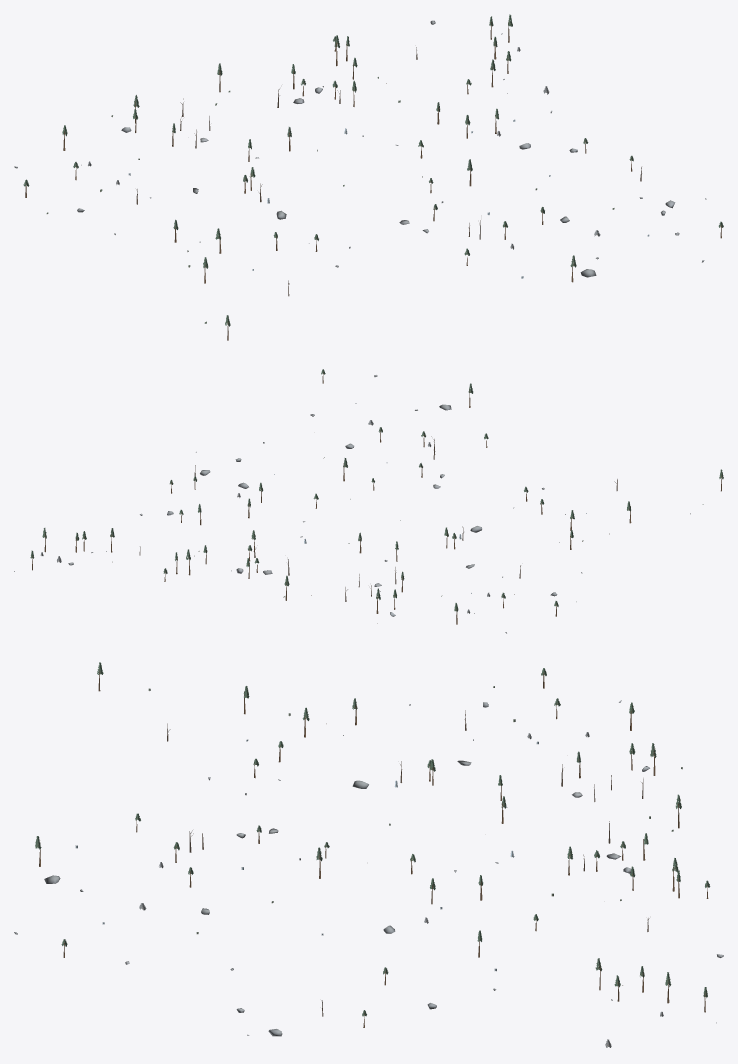
File: frost_land_scatter_c19_12_lod1.glb
3 views of the same model, one above another, from view 1: azimuth 30°, elevation 25°; view 2: azimuth 150°, elevation 25°; view 3: azimuth 270°, elevation 25° (orthographic). The views are drawn at different scales.
Visible parts, largest first — view 1: frost_land_scatter_c19_12_lod1; view 2: frost_land_scatter_c19_12_lod1; view 3: frost_land_scatter_c19_12_lod1.
Boxes of the visible parts, box(x1,y1,x2,y2) form: frost_land_scatter_c19_12_lod1: box(14, 14, 723, 340); frost_land_scatter_c19_12_lod1: box(14, 369, 723, 633); frost_land_scatter_c19_12_lod1: box(14, 662, 723, 1047).
Bounding box in the file's own units: 252 × 35.36 × 247.
